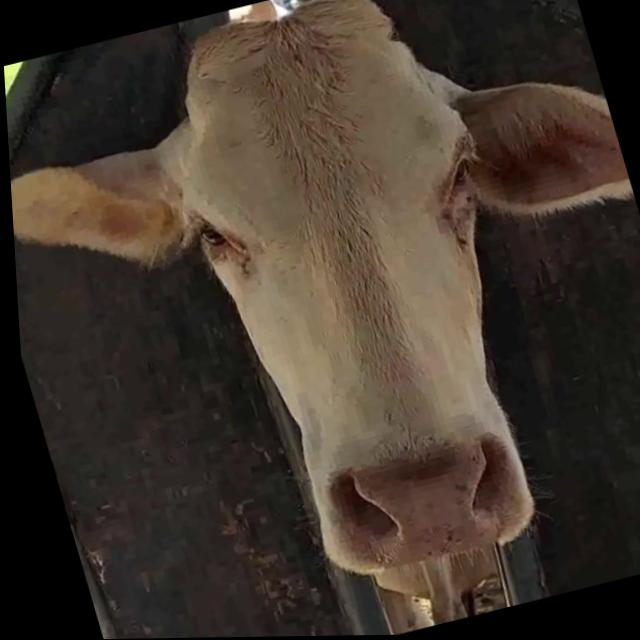cowFace: (126, 0, 576, 600)
